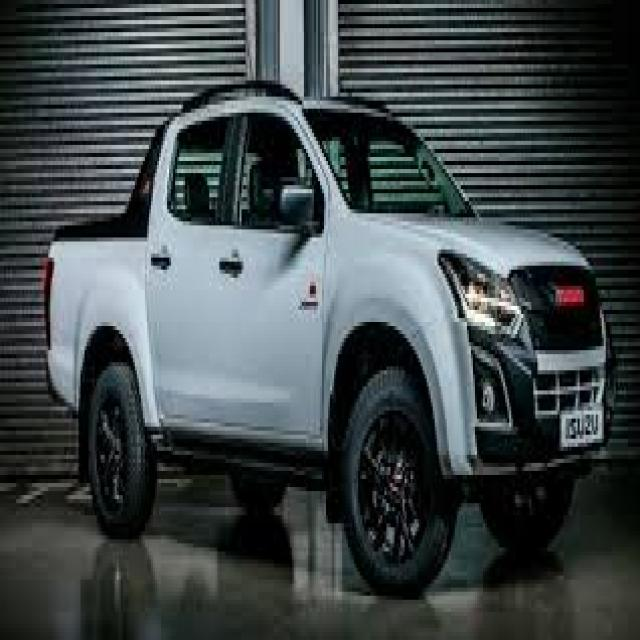Pickup Trucks: (44, 93, 614, 592)
